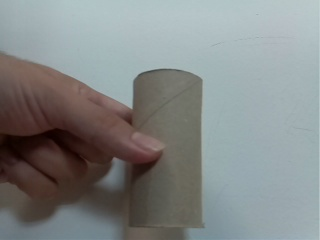rollo papel: (125, 67, 210, 233)
